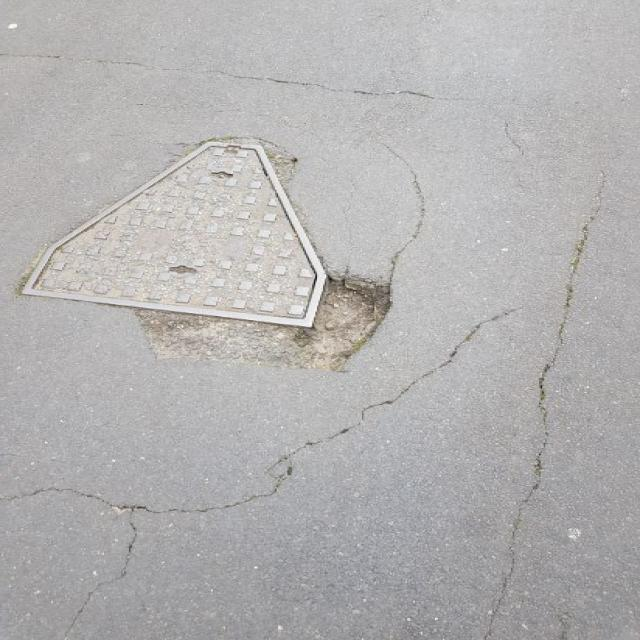pothole: (121, 266, 410, 369)
